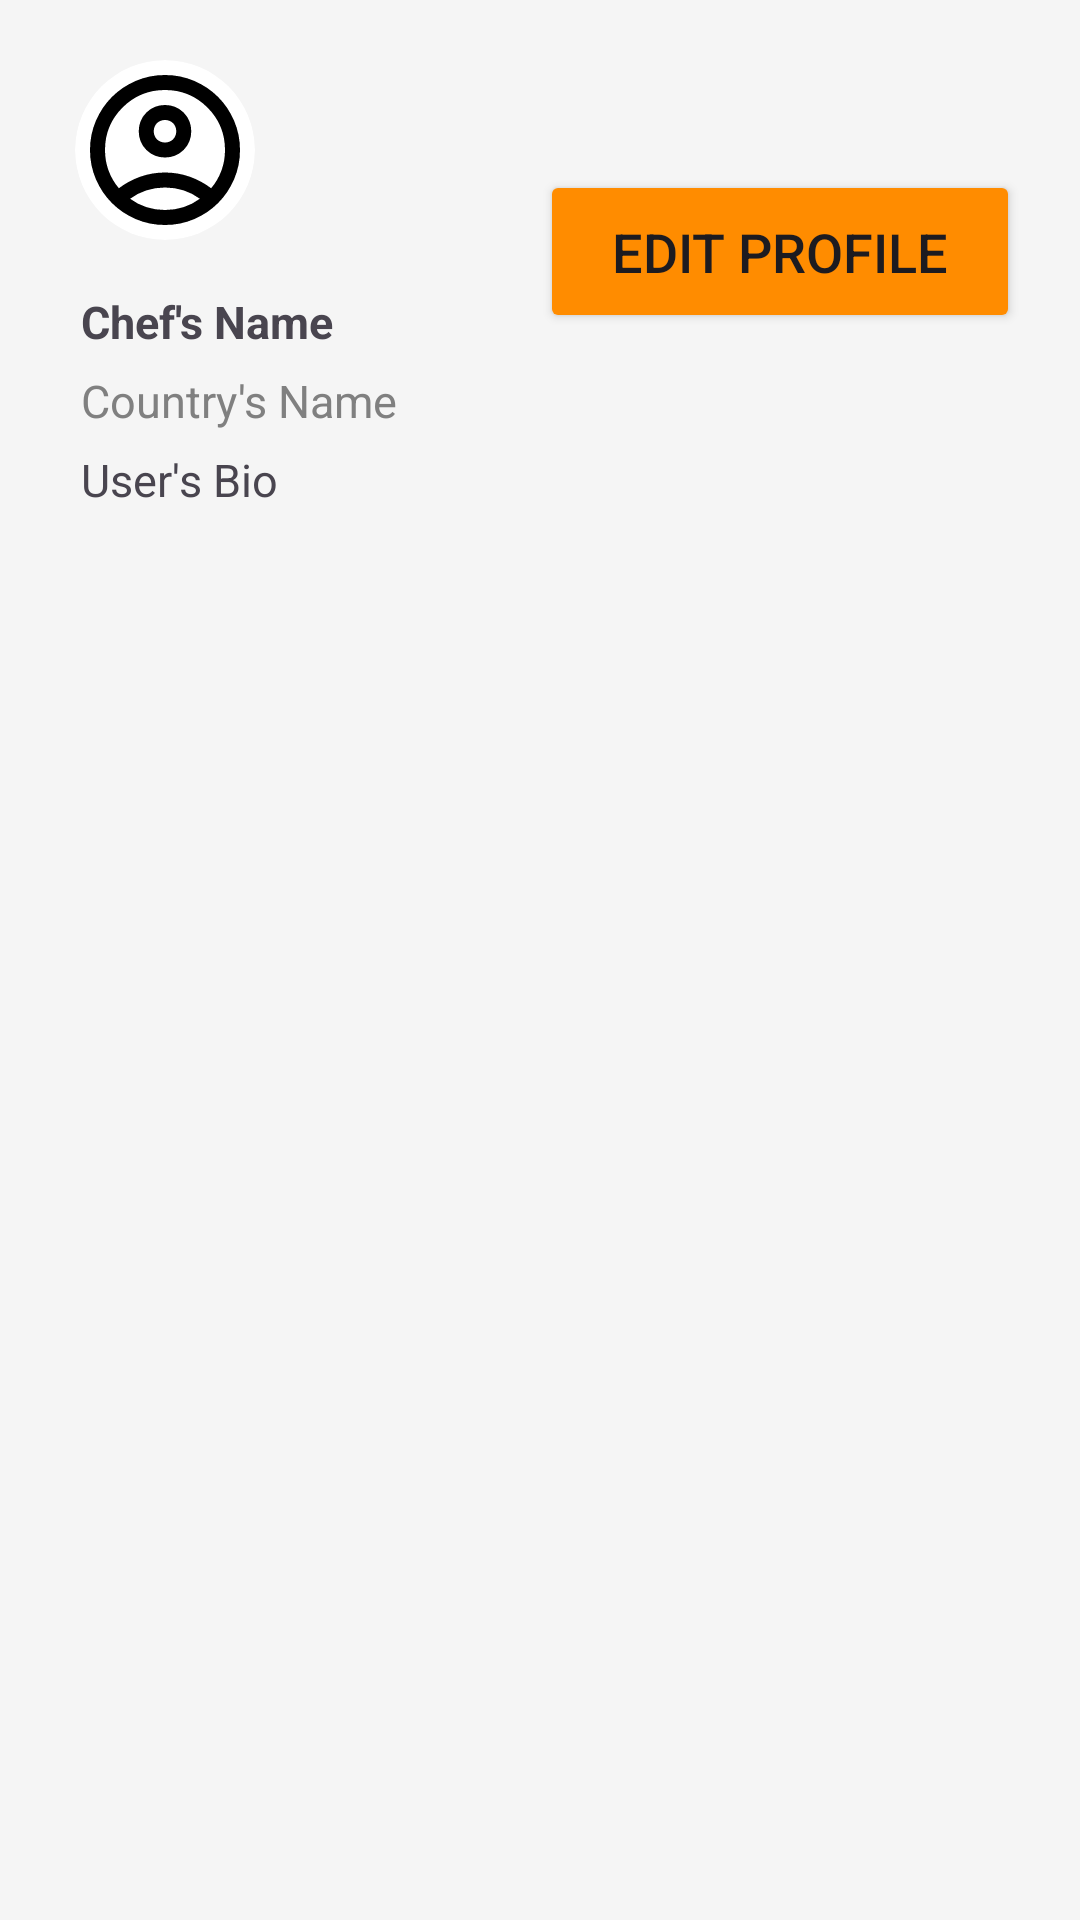

Point at icon controls on the screen. Image size 1080w x 1920h, points as (x,y).
profile pic view/edit: (165,150)
